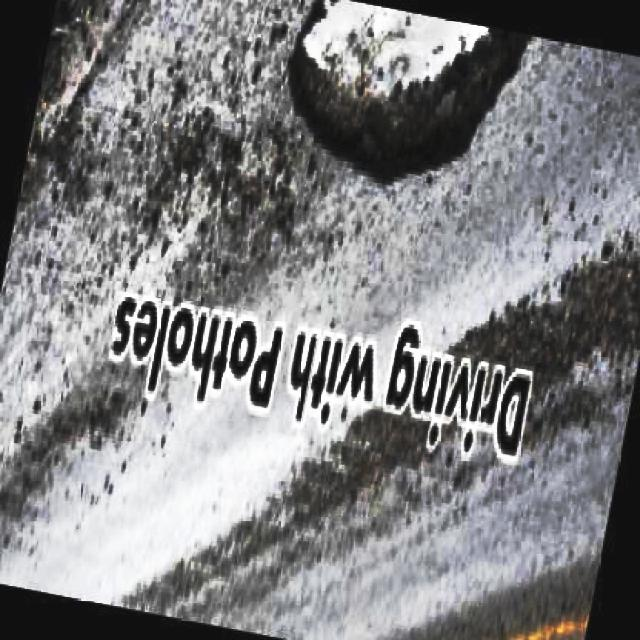pothole: (281, 0, 554, 186)
